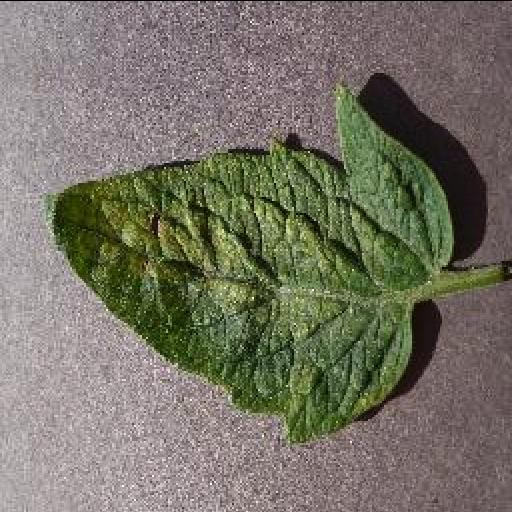disease_tomato: (44, 86, 454, 444)
